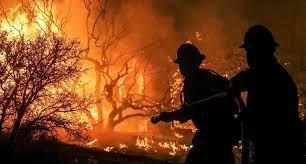fire: (2, 19, 191, 151)
